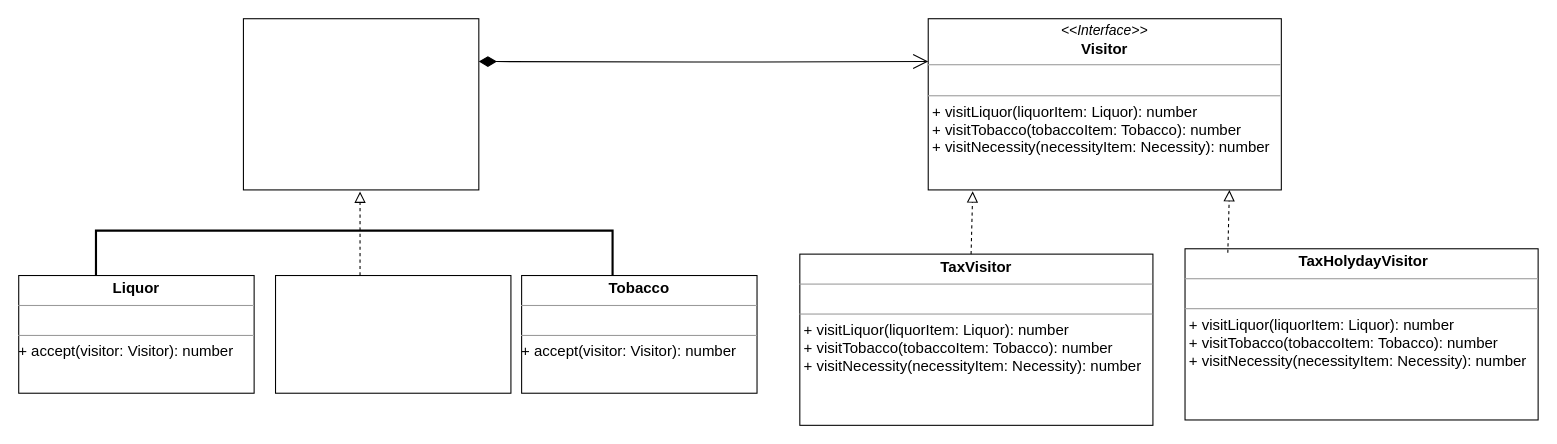
Image size: 1557x444. Some labels were removed from this diagram. The centre of each missing label's shape, as x and y in pixels:
<<Interface>> Visitable + accept(visitor: Visitor): number: [360,104]
Necessity + accept(visitor: Visitor): number: [392,333]
